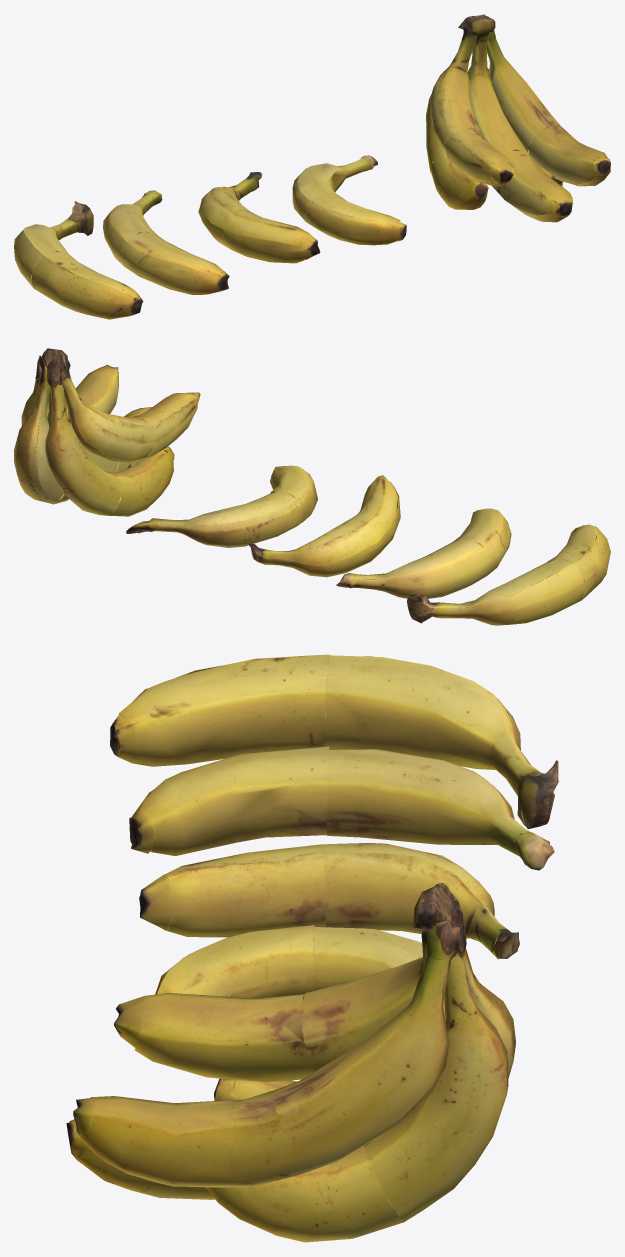
Rendered from bananas.glb.
3 renders of one model, top to bottom at view 1: azimuth 30°, elevation 25°; view 2: azimuth 150°, elevation 25°; view 3: azimuth 270°, elevation 25°, orthographic. The views are drawn at different scales.
Visible parts, largest first — view 1: bananas_bunch, bananas_d, bananas_c, bananas_a, bananas_b; view 2: bananas_bunch, bananas_d, bananas_c, bananas_a, bananas_b; view 3: bananas_bunch, bananas_d, bananas_c, bananas_b, bananas_a.
Boxes of the visible parts, x1,y1,x2,y2 form: bananas_bunch: [426, 14, 610, 222]; bananas_d: [14, 201, 143, 319]; bananas_c: [103, 190, 229, 294]; bananas_a: [292, 155, 406, 245]; bananas_b: [198, 172, 320, 263]; bananas_bunch: [14, 348, 200, 516]; bananas_d: [407, 524, 610, 625]; bananas_c: [336, 508, 511, 598]; bananas_a: [126, 465, 317, 547]; bananas_b: [249, 475, 400, 577]; bananas_bunch: [66, 883, 515, 1242]; bananas_d: [110, 654, 558, 829]; bananas_c: [129, 746, 554, 870]; bananas_b: [139, 843, 519, 959]; bananas_a: [155, 925, 480, 998].
Size of the model in its own units: 0.6005 by 0.1783 by 0.2441.
1 material, 1 textured.
